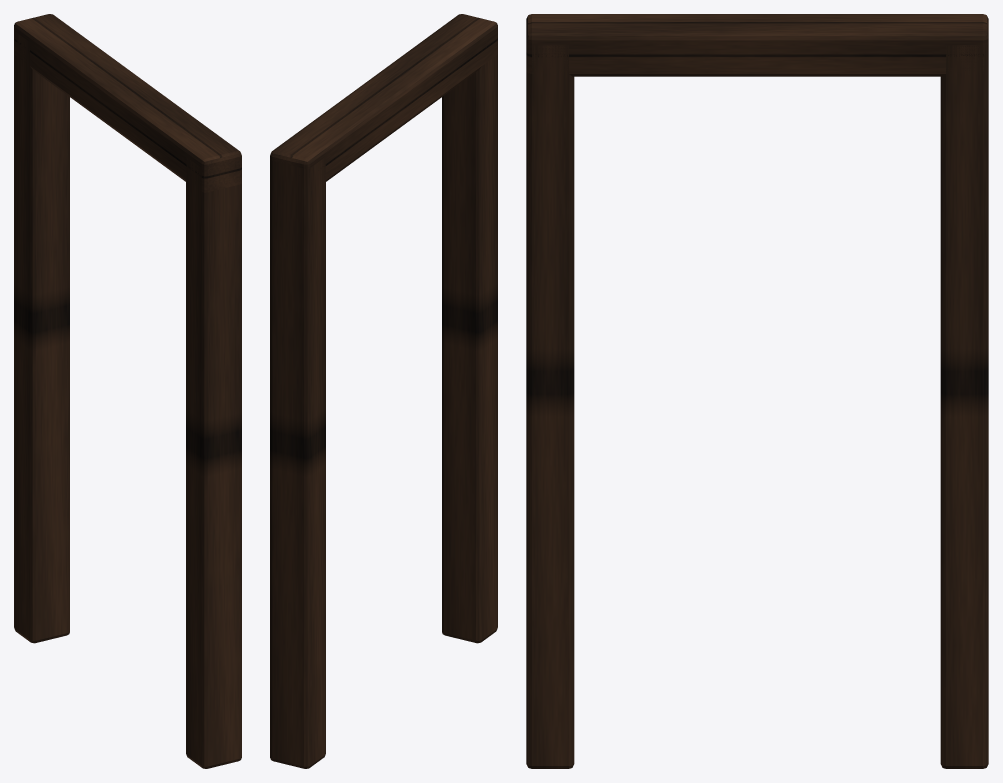
File: worn-door-frame.glb
3 renders of one model, left to right at view 1: azimuth 30°, elevation 25°; view 2: azimuth 150°, elevation 25°; view 3: azimuth 270°, elevation 25°, orthographic. The views are drawn at different scales.
Visible parts, largest first — view 1: SM_lonely_house_worn_door_frame_DarkWood; view 2: SM_lonely_house_worn_door_frame_DarkWood; view 3: SM_lonely_house_worn_door_frame_DarkWood.
Boxes of the visible parts, <box> form: SM_lonely_house_worn_door_frame_DarkWood: <box>14,14,241,768</box>; SM_lonely_house_worn_door_frame_DarkWood: <box>270,14,497,768</box>; SM_lonely_house_worn_door_frame_DarkWood: <box>526,14,988,768</box>.
Bounding box in the file's own units: 0.15 × 2.19 × 1.25.
1 material, 1 textured.
